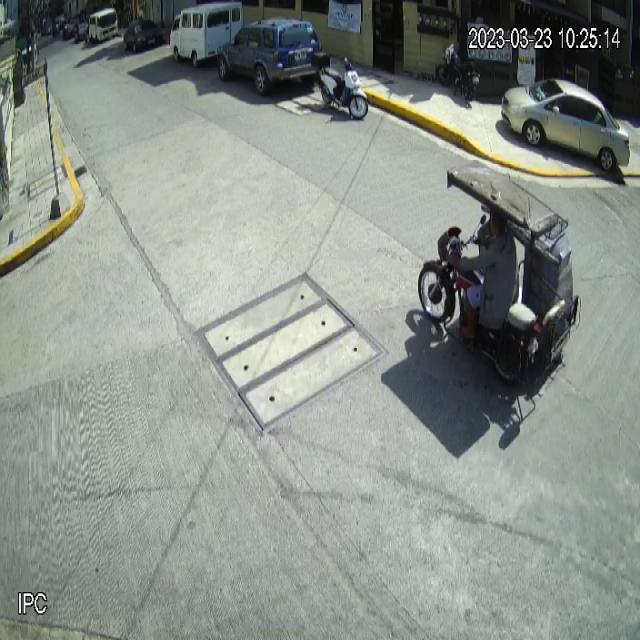Car: (501, 76, 631, 171), (219, 15, 325, 94)
Motorcycle: (312, 48, 369, 120)
Tricycle: (416, 159, 584, 384)
Van: (170, 1, 245, 67)
